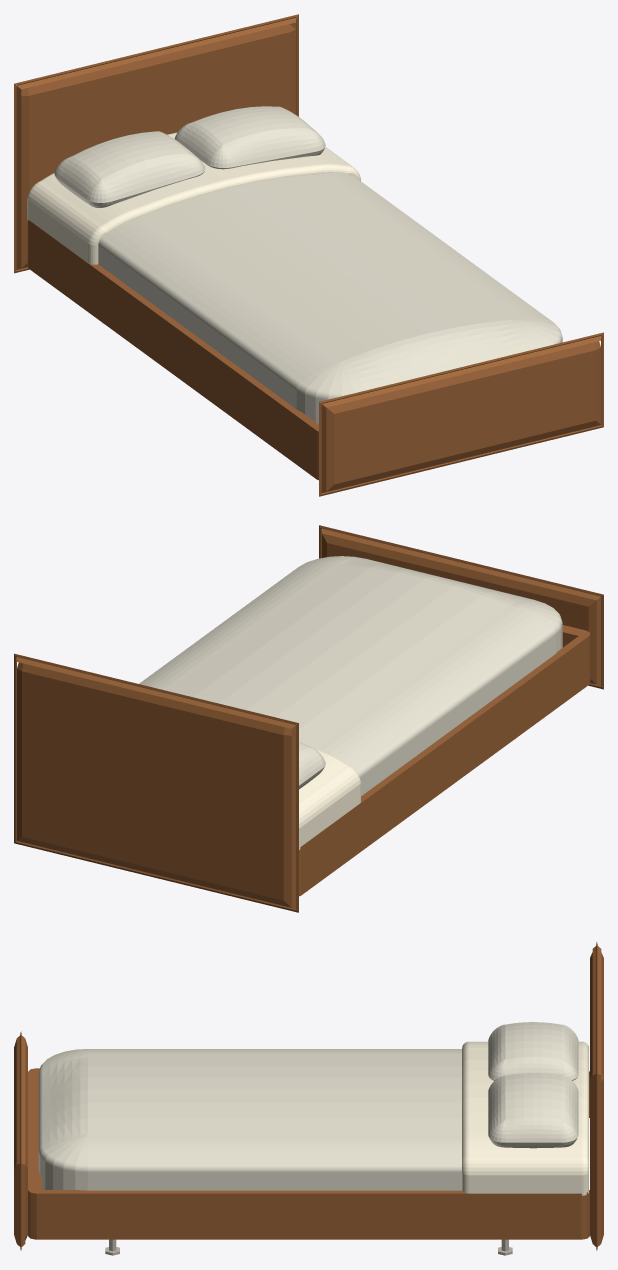
Rendered from bed-by-cmht-oculus-eJtyBTDhl_p.glb.
3 views of the same model, one above another, from view 1: azimuth 30°, elevation 25°; view 2: azimuth 150°, elevation 25°; view 3: azimuth 270°, elevation 25° (orthographic). The views are drawn at different scales.
Visible parts, largest first — view 1: Node; view 2: Node; view 3: Node.
Boxes of the visible parts, left/top/right/bottom form: Node: left=14, top=14, right=603, bottom=496; Node: left=14, top=525, right=603, bottom=912; Node: left=14, top=942, right=603, bottom=1255.
Bounding box in the file's own units: 43.96 × 31.49 × 83.53.
